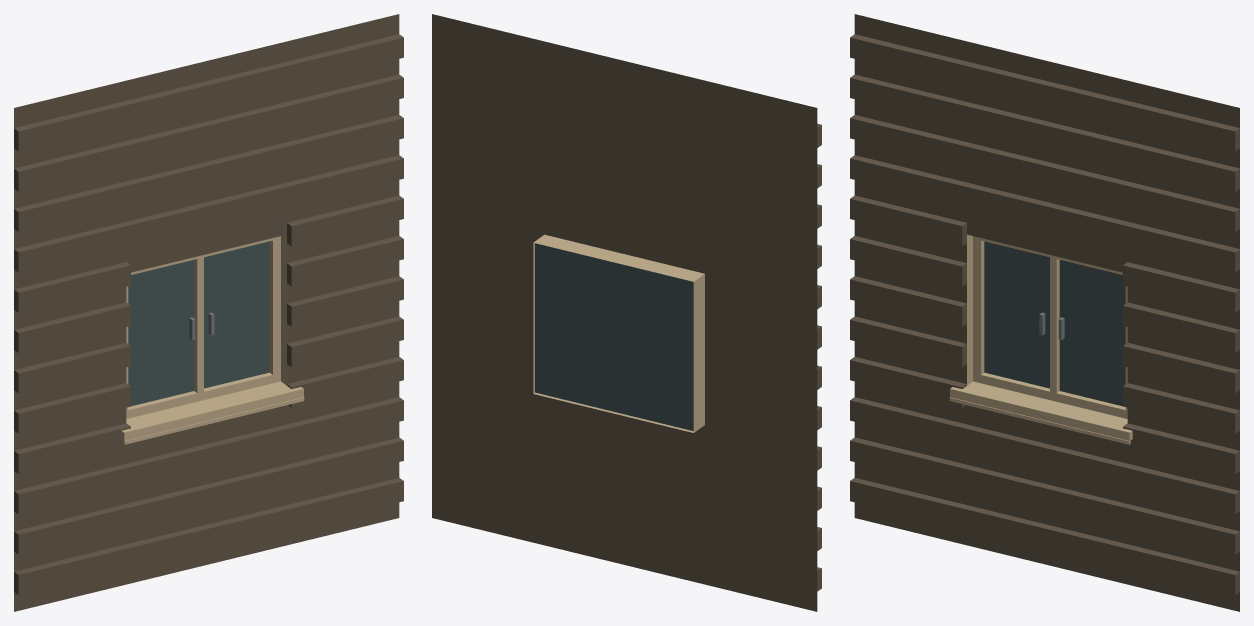
File: top-w1_close.fbx
3 renders of one model, left to right at view 1: azimuth 30°, elevation 25°; view 2: azimuth 150°, elevation 25°; view 3: azimuth 330°, elevation 25°, orthographic.
Visible parts, largest first — view 1: a2015/400/top-w1_close; view 2: a2015/400/top-w1_close; view 3: a2015/400/top-w1_close.
Part boxes in pixels (x1,y1,x2,y2): a2015/400/top-w1_close: (14,14,403,611); a2015/400/top-w1_close: (432,14,821,611); a2015/400/top-w1_close: (850,14,1239,611).
Size of the model in its own units: 2.4 by 3 by 0.205.
